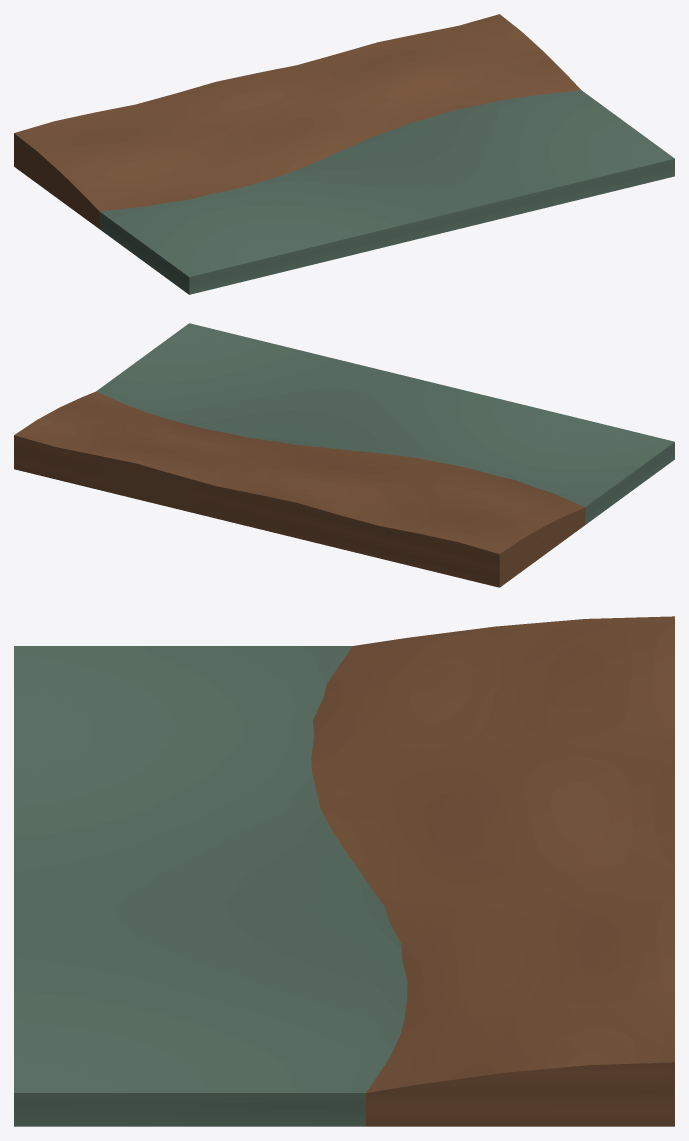
3 renders of one model, top to bottom at view 1: azimuth 30°, elevation 25°; view 2: azimuth 150°, elevation 25°; view 3: azimuth 270°, elevation 25°, orthographic. The views are drawn at different scales.
Parts seen in each view (by area): view 1: makurdi; view 2: makurdi; view 3: makurdi.
Part boxes in pixels (box(x1,y1,x2,y2)): makurdi: box(14, 14, 674, 294); makurdi: box(14, 323, 674, 587); makurdi: box(14, 616, 674, 1126).
Size of the model in its own units: 6.43 by 0.4501 by 4.02.
1 material, 1 textured.
